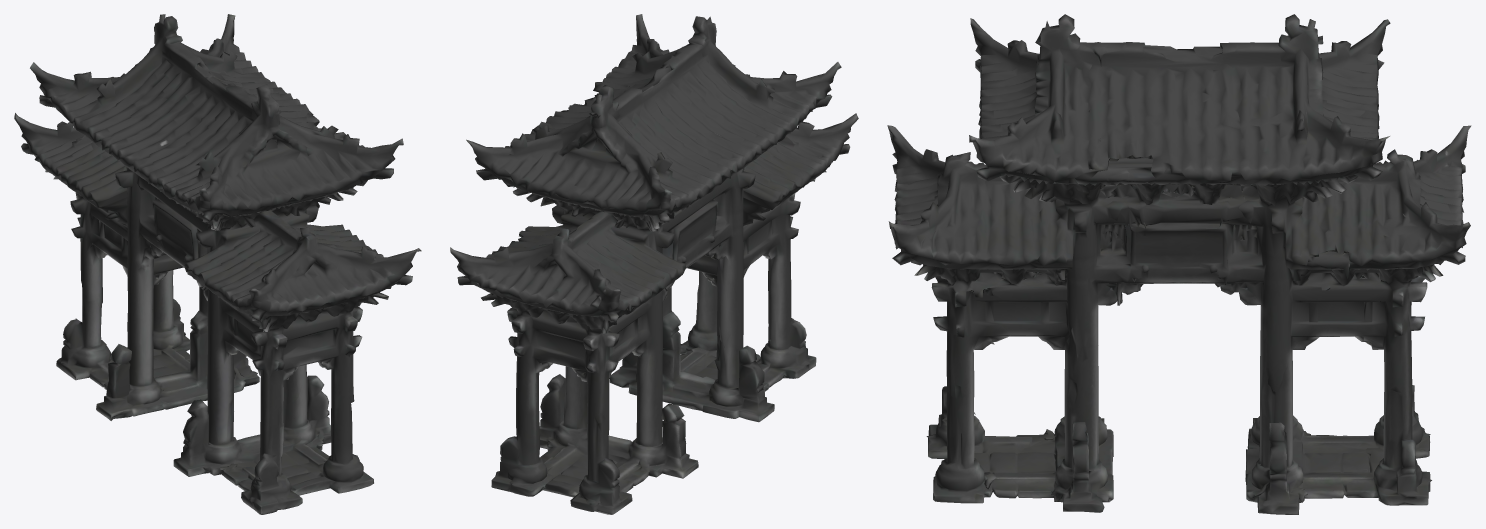
3 views of the same model, side by side, from view 1: azimuth 30°, elevation 25°; view 2: azimuth 150°, elevation 25°; view 3: azimuth 270°, elevation 25° (orthographic). The views are drawn at different scales.
Parts seen in each view (by area): view 1: tripo_node_61868987-7adf-4ed5-9967-9ff67f6318d3; view 2: tripo_node_61868987-7adf-4ed5-9967-9ff67f6318d3; view 3: tripo_node_61868987-7adf-4ed5-9967-9ff67f6318d3.
Boxes of the visible parts, x1=… form: tripo_node_61868987-7adf-4ed5-9967-9ff67f6318d3: x1=14, y1=14, x2=421, y2=514; tripo_node_61868987-7adf-4ed5-9967-9ff67f6318d3: x1=450, y1=14, x2=858, y2=514; tripo_node_61868987-7adf-4ed5-9967-9ff67f6318d3: x1=887, y1=14, x2=1471, y2=514.
Bounding box in the file's own units: 0.4935 × 0.859 × 1.
Materials: 1 (1 with a texture image).
